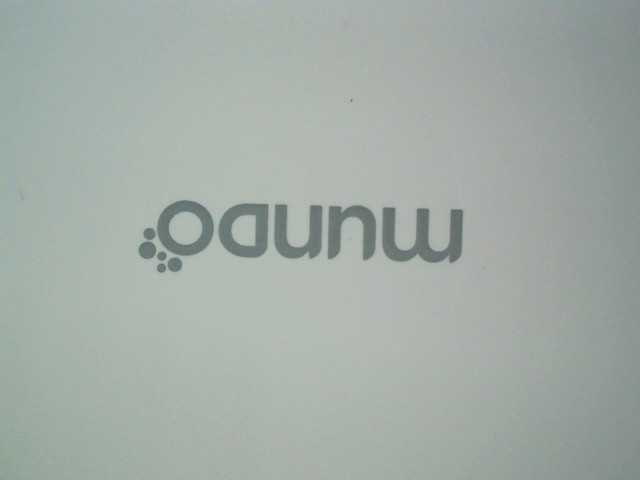BI_MUNDO: (123, 180, 474, 275)
